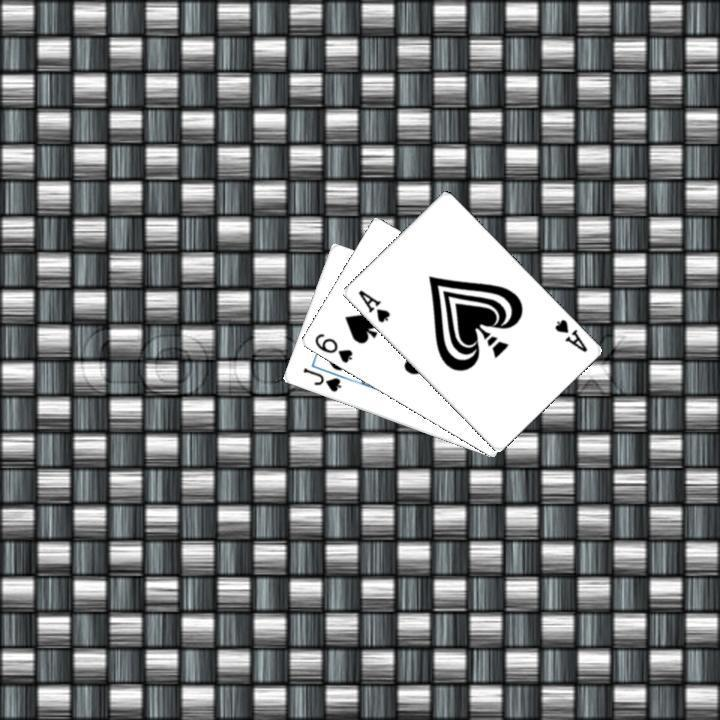6: (310, 329, 354, 365)
A: (353, 285, 392, 325), (550, 315, 589, 354)
J: (298, 364, 343, 394)
